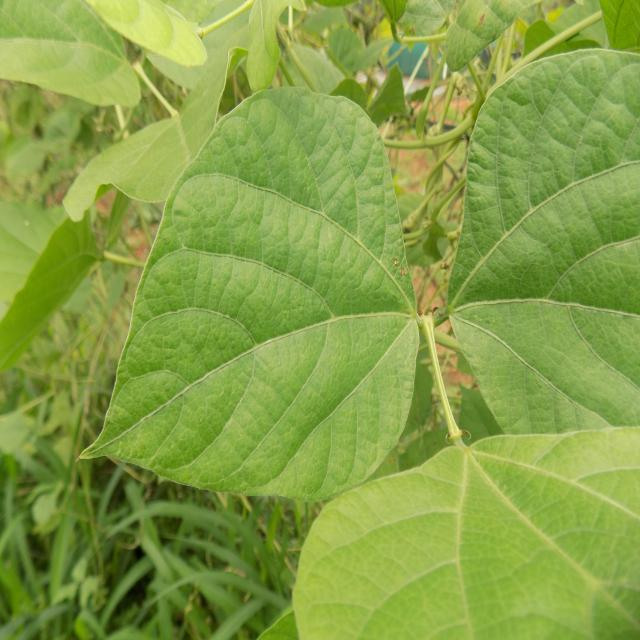Dolicos bean_healthy: (92, 81, 409, 498), (450, 47, 640, 458)
